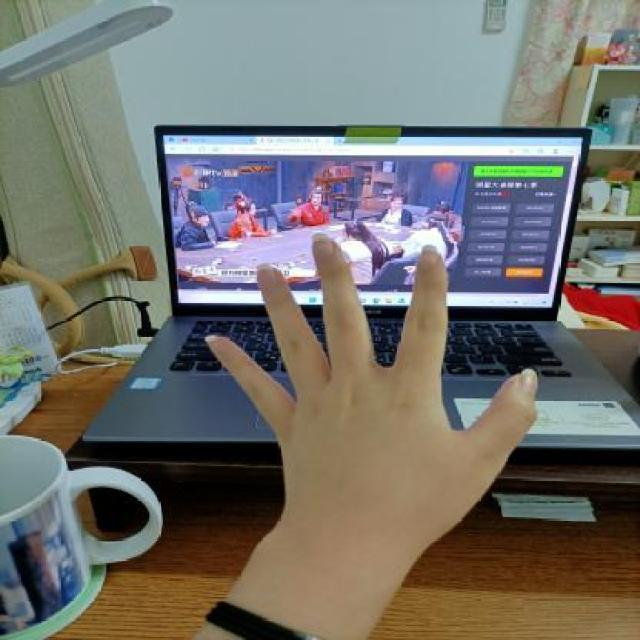bare_hand: (175, 212, 563, 594)
